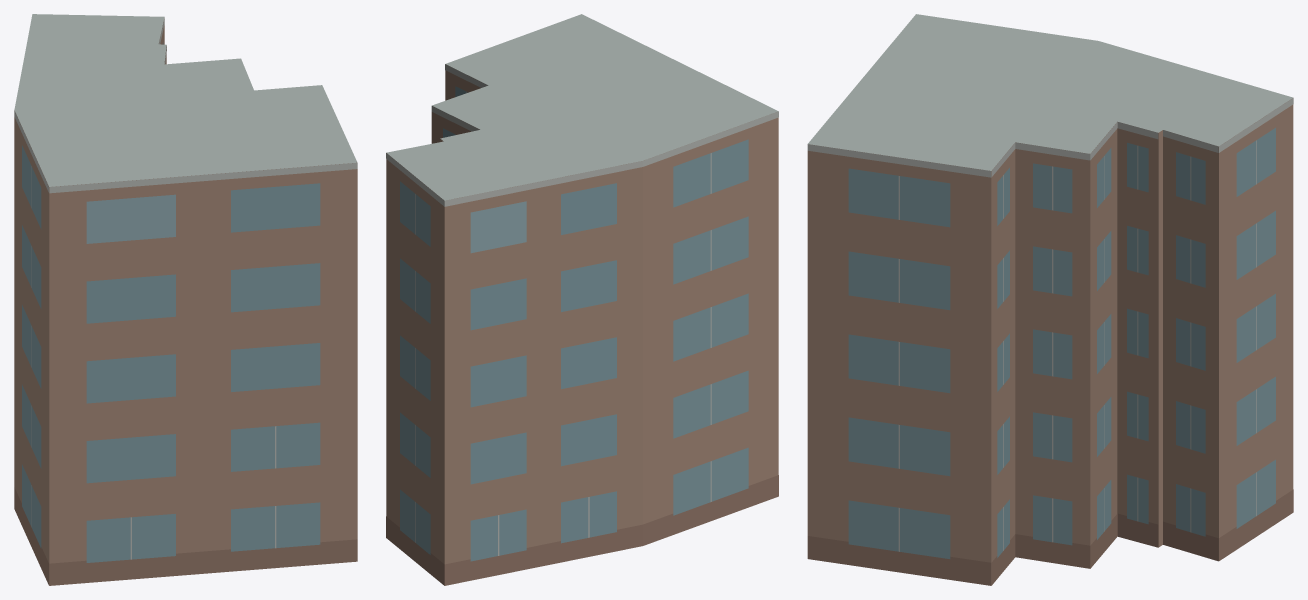
File: survey-upis-32837019.glb
The picture shows the model from 3 angles, left to right: view 1: azimuth 30°, elevation 25°; view 2: azimuth 150°, elevation 25°; view 3: azimuth 270°, elevation 25°; orthographic projection. The views are drawn at different scales.
Parts seen in each view (by area): view 1: survey-upis-32837019.tmp; view 2: survey-upis-32837019.tmp; view 3: survey-upis-32837019.tmp.
Boxes of the visible parts, box(x1,y1,x2,y2) form: survey-upis-32837019.tmp: box(14, 14, 357, 585); survey-upis-32837019.tmp: box(386, 14, 778, 585); survey-upis-32837019.tmp: box(807, 14, 1293, 585).
Size of the model in its own units: 12.38 by 15.25 by 16.2.
